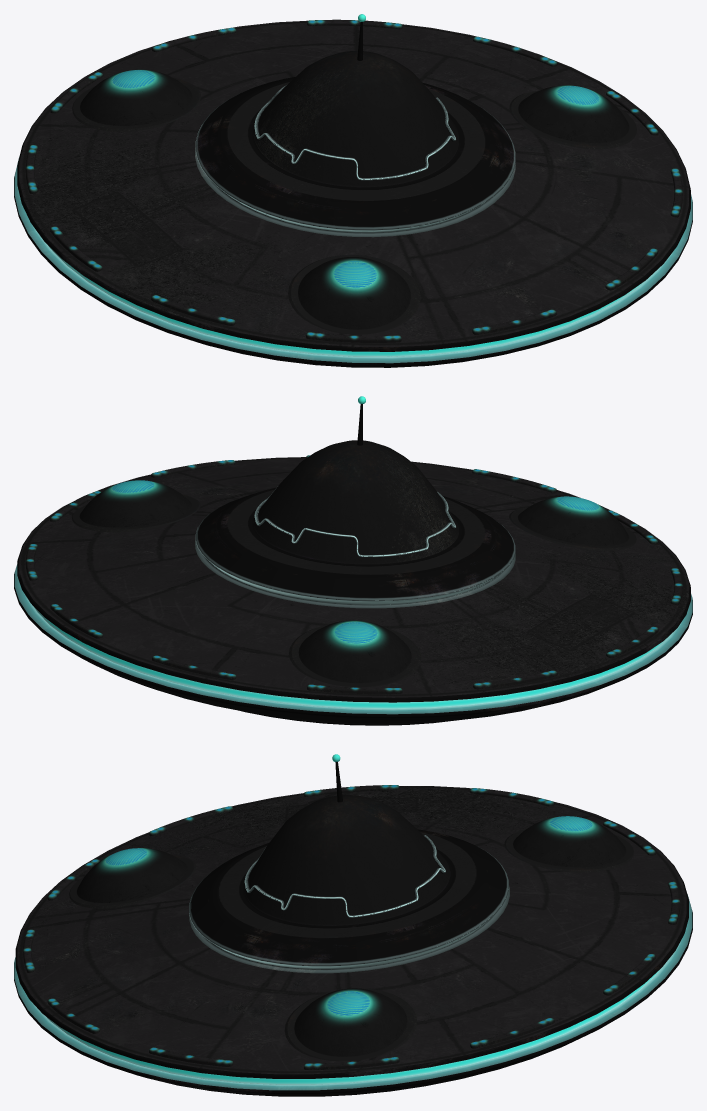
File: ufo_better.glb
3 renders of one model, top to bottom at view 1: azimuth 30°, elevation 25°; view 2: azimuth 150°, elevation 25°; view 3: azimuth 270°, elevation 25°, orthographic.
Visible parts, largest first — view 1: node_id40_0; view 2: node_id40_0; view 3: node_id40_0.
Boxes of the visible parts, x1,y1,x2,y2 form: node_id40_0: [14, 14, 692, 367]; node_id40_0: [14, 396, 692, 725]; node_id40_0: [14, 754, 692, 1096].
Size of the model in its own units: 0.512 by 0.2192 by 0.5094.
1 material, 1 textured.
